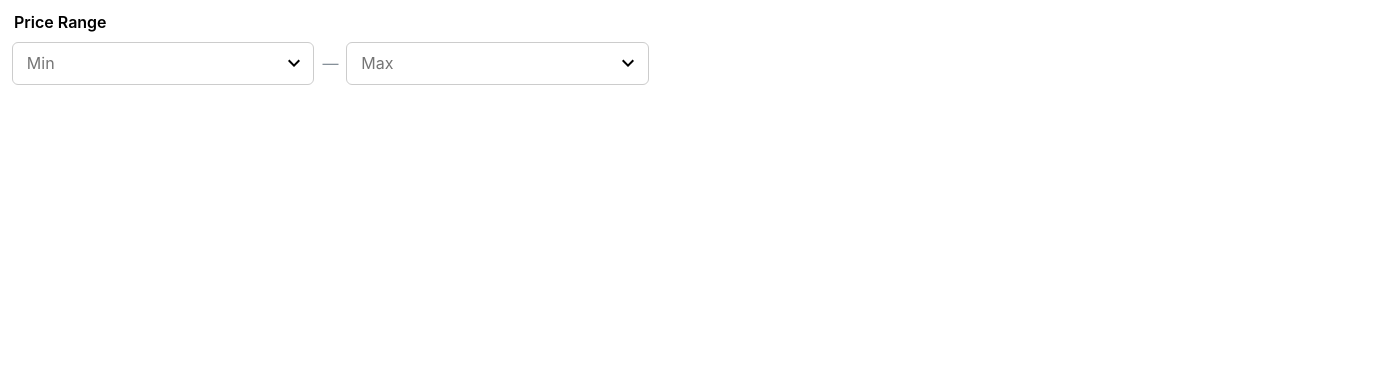
Scenario: PriceRange › when one of the inputs receives focus › when the up/down arrow keys are clicked › opens the menu
The width and height of the screenshot is (1378, 369).
Click the dropdown with placeholder "Min" at (144, 63), box [14,44,275,83]
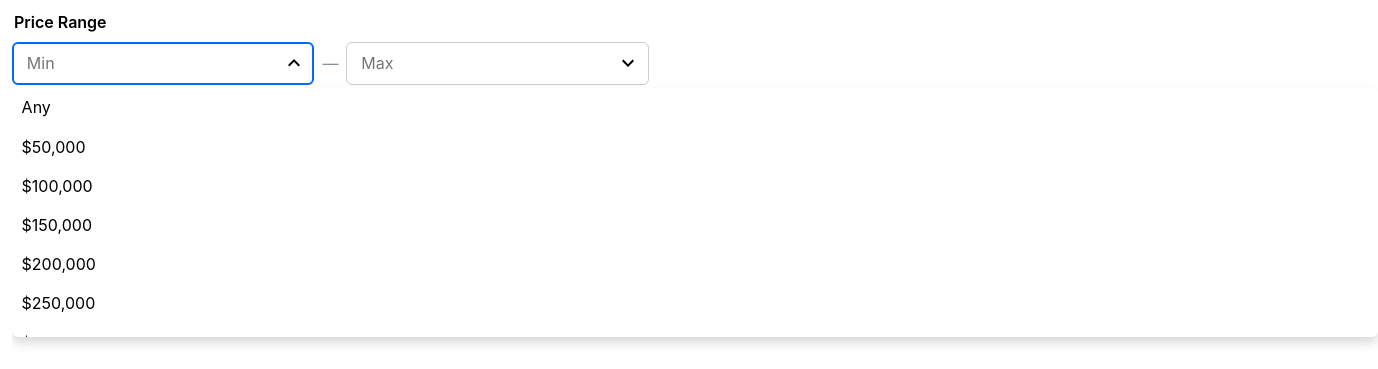
Expected: the list is shown, [22,97,96,352]
Press Escape
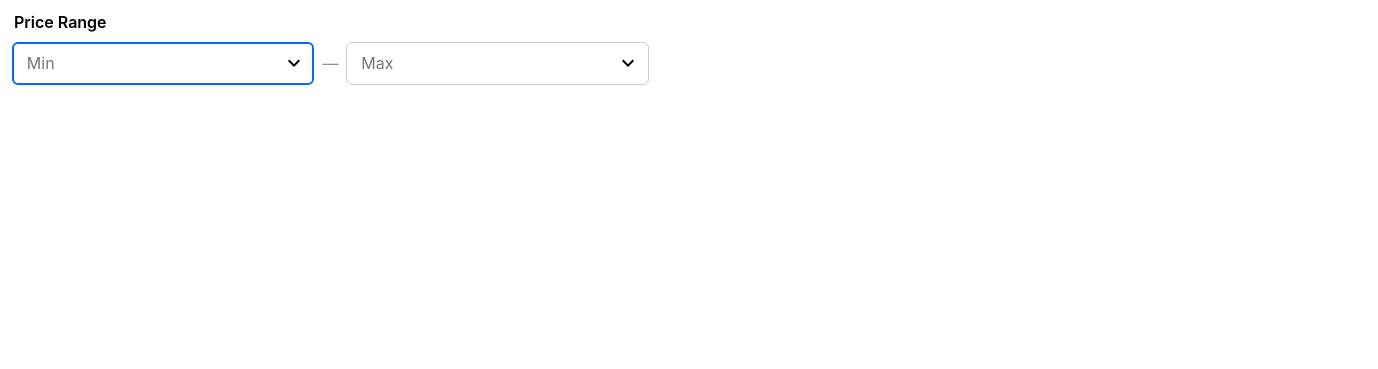
Expected: the list is gone
Press Arrowup
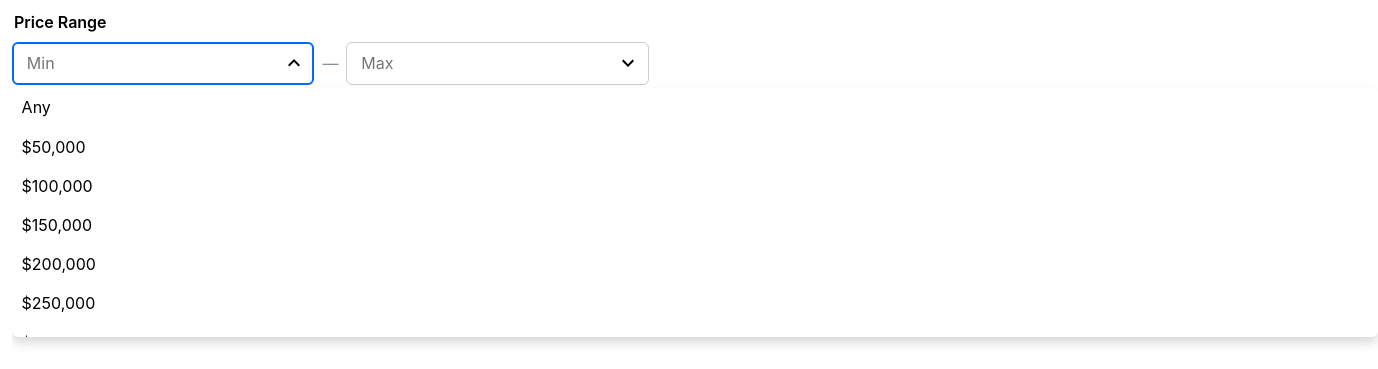
Expected: the list is shown, [22,97,96,352]
Press Escape
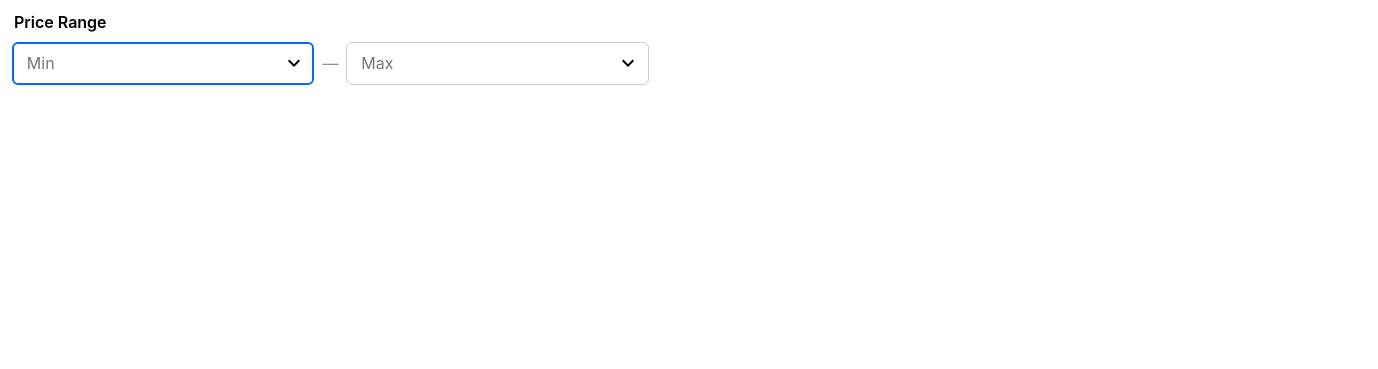
Expected: the list is gone
Press Arrowdown
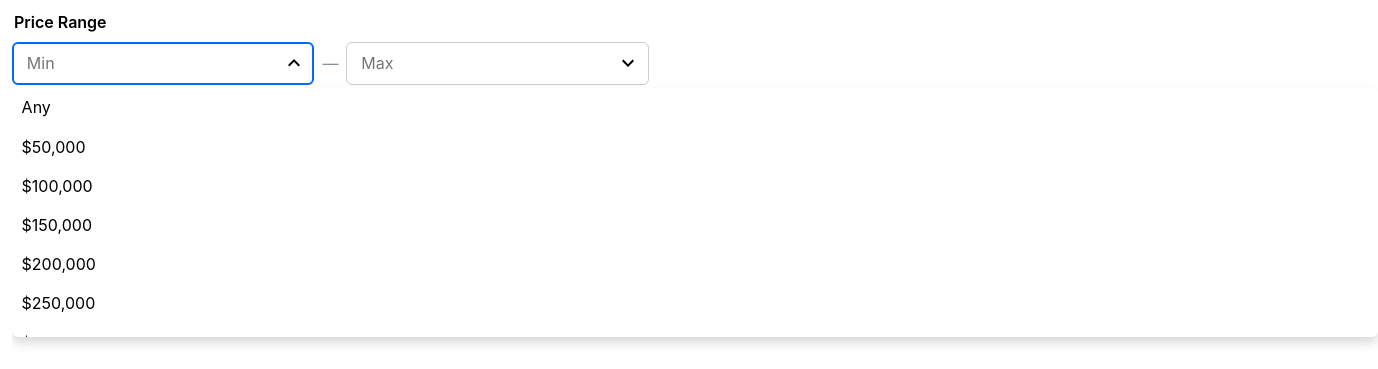
Expected: the list is shown, [22,97,96,352]
